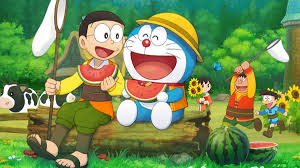doraemon: (115, 19, 199, 131)
